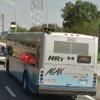Bus: (3, 25, 98, 98)
